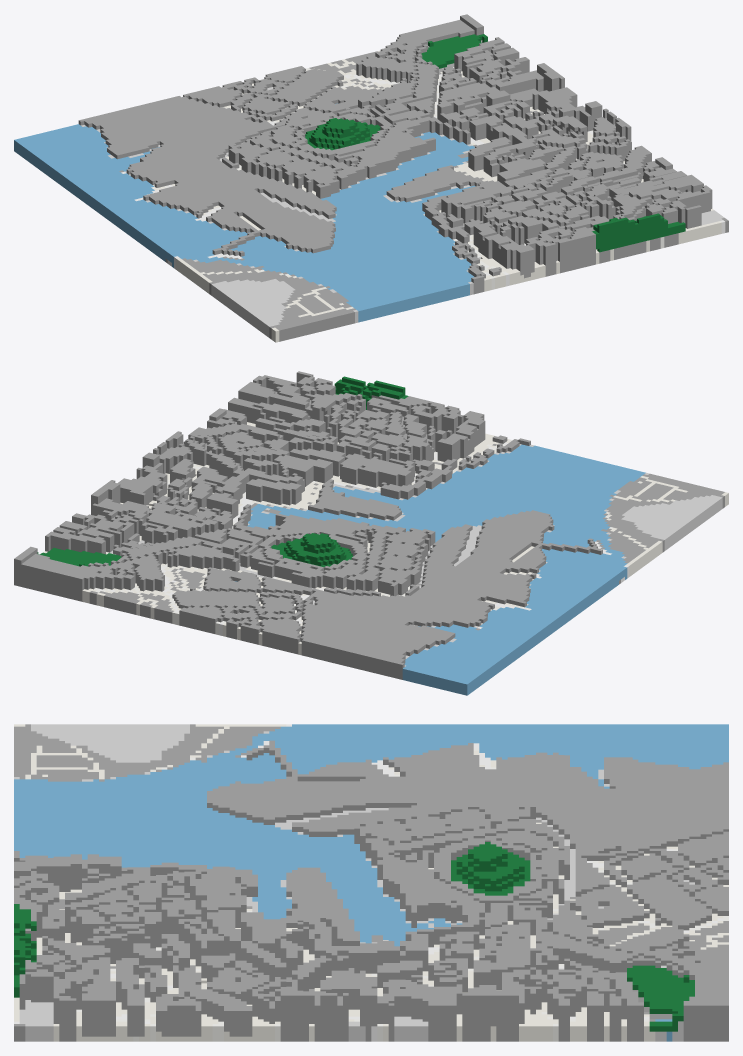
File: 200607 macau ver3-3.obj
3 renders of one model, top to bottom at view 1: azimuth 30°, elevation 25°; view 2: azimuth 150°, elevation 25°; view 3: azimuth 270°, elevation 25°, orthographic. The views are drawn at different scales.
Size of the model in its own units: 12.6 by 1 by 12.6.
Materials: 1 (1 with a texture image).
